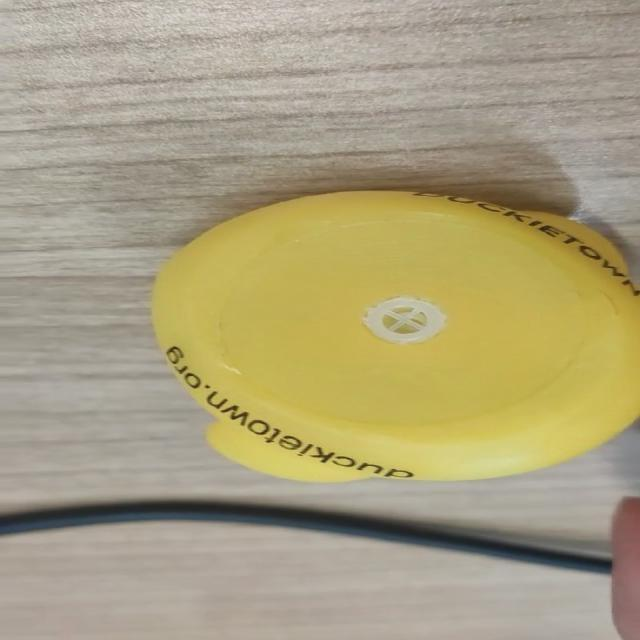rubber-duck: (151, 190, 638, 480)
